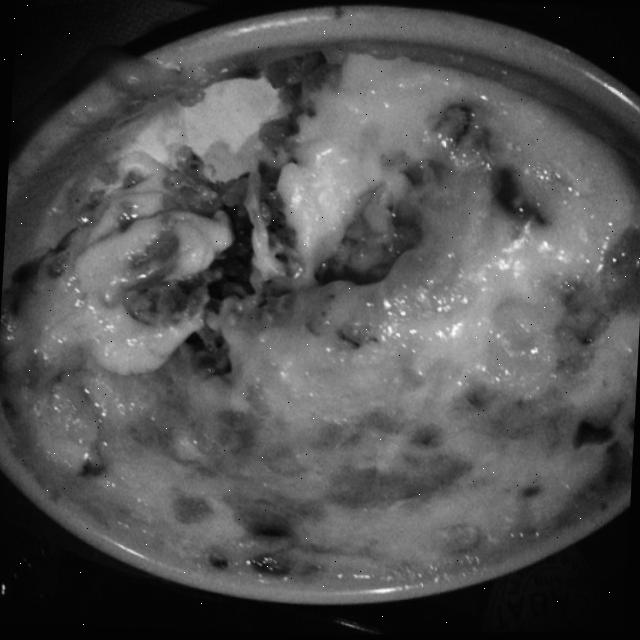米饭主食: (11, 27, 640, 608)
